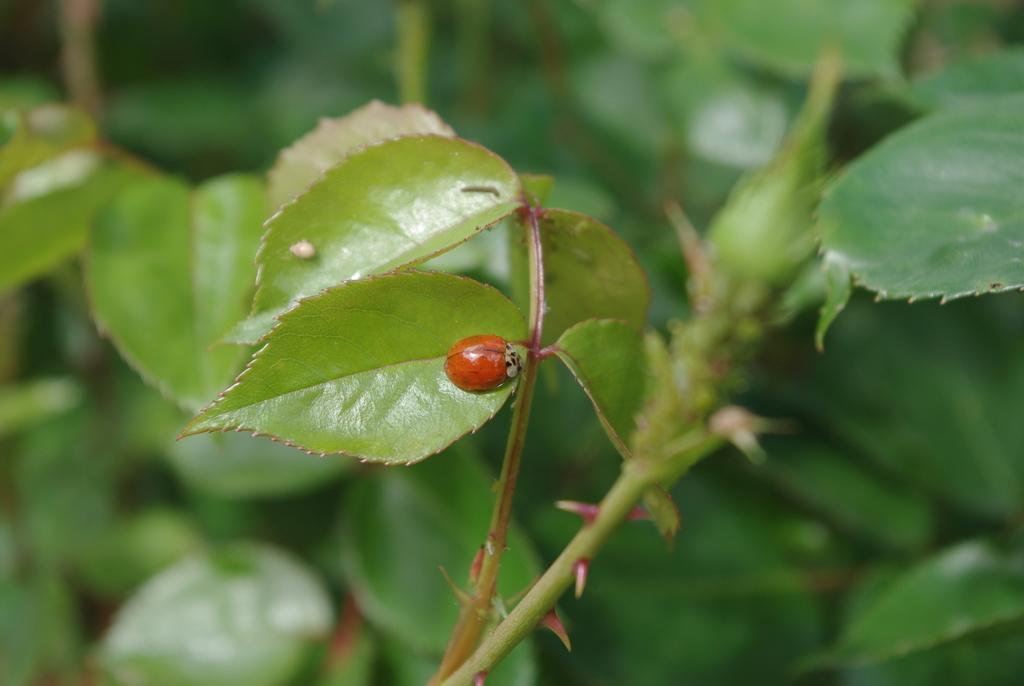ladybug: (441, 331, 525, 397)
